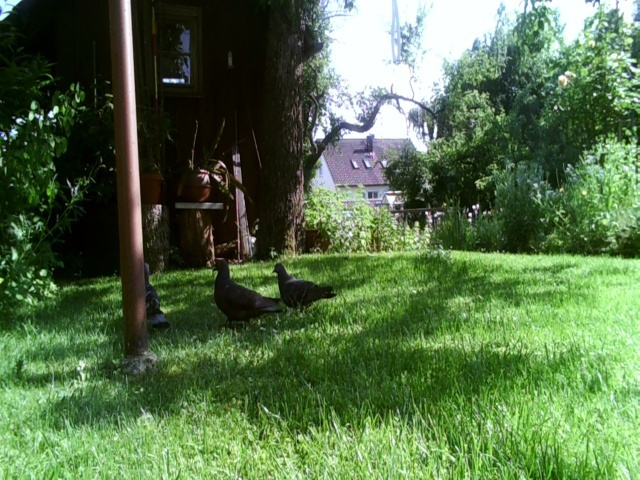Pigeon: (205, 254, 279, 333), (268, 263, 338, 319), (145, 258, 179, 331)
